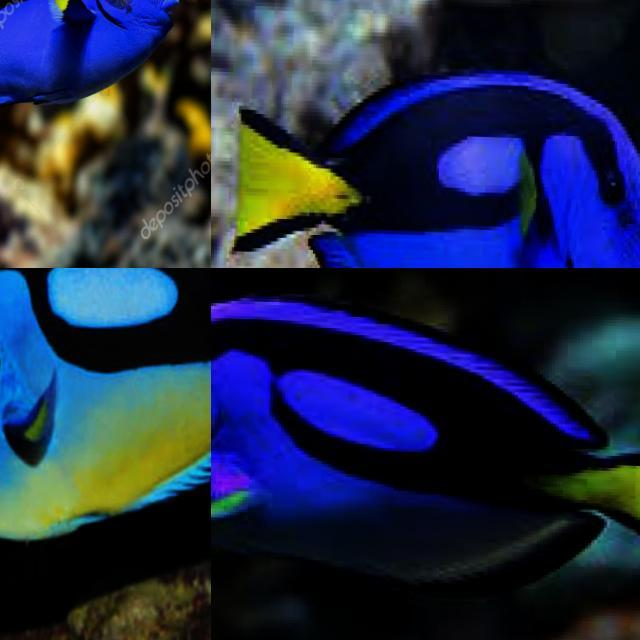BlueTang: (217, 298, 640, 589), (239, 76, 640, 268)
